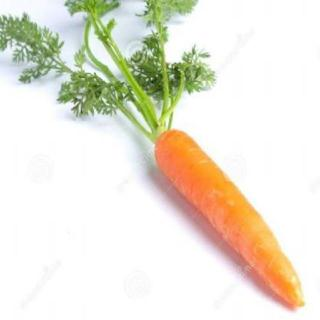carrot: (144, 119, 310, 313)
